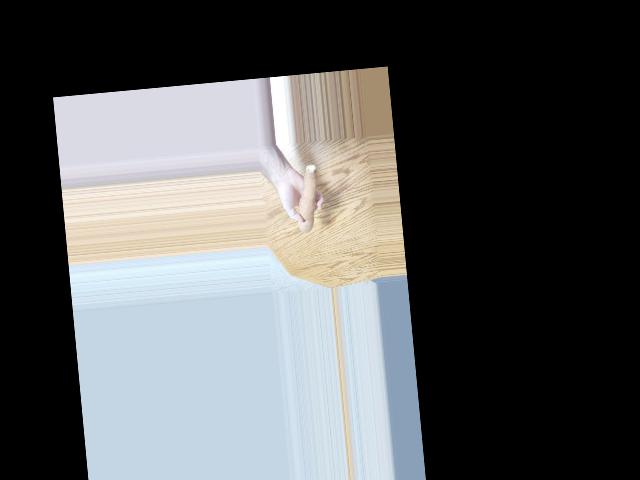sweet_potato: (295, 158, 323, 235)
